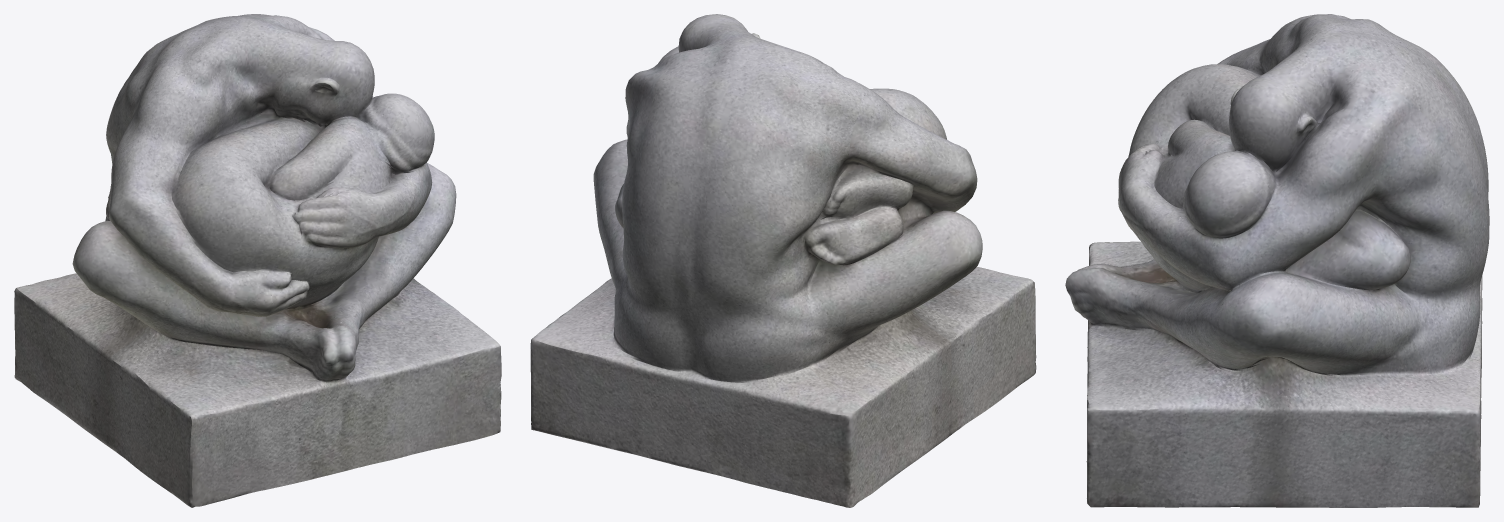
Rendered from preview.glb.
The picture shows the model from 3 angles, left to right: view 1: azimuth 30°, elevation 25°; view 2: azimuth 150°, elevation 25°; view 3: azimuth 270°, elevation 25°; orthographic projection. The views are drawn at different scales.
Parts seen in each view (by area): view 1: Object_2; view 2: Object_2; view 3: Object_2.
Boxes of the visible parts, box(x1,y1,x2,y2) form: Object_2: box(14, 14, 501, 507); Object_2: box(530, 14, 1036, 507); Object_2: box(1065, 14, 1489, 507).
Bounding box in the file's own units: 1.21 × 1.13 × 1.1.
Materials: 1 (1 with a texture image).
